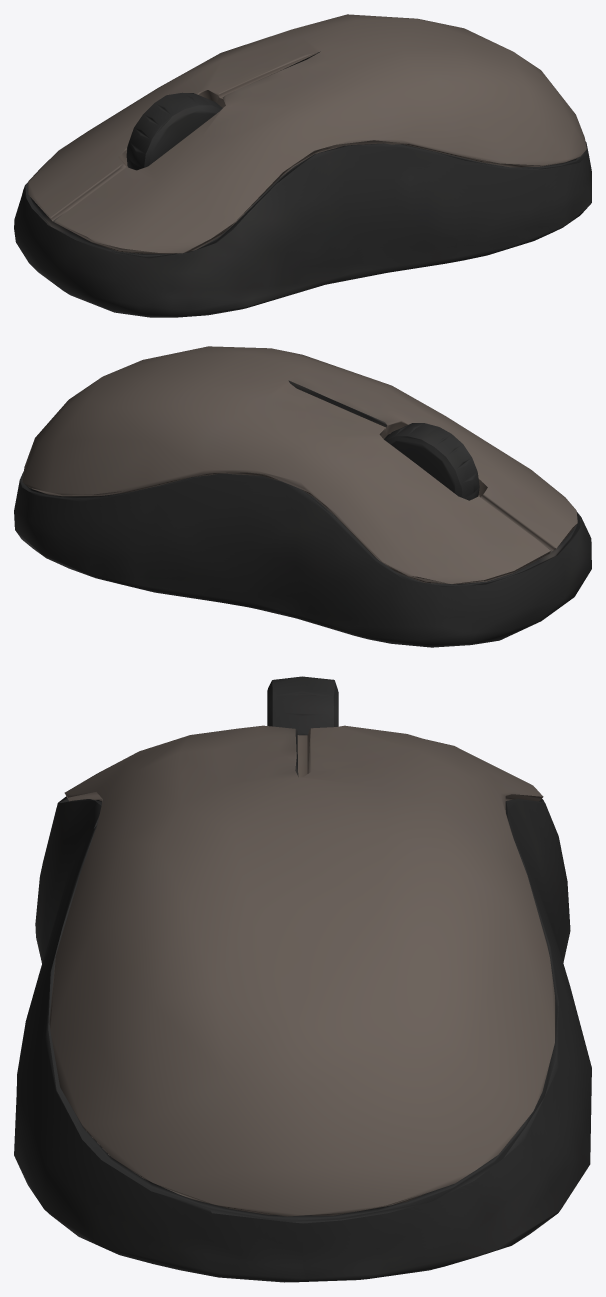
The model's file is SM_Computer_Mouse03.fbx.
The picture shows the model from 3 angles, top to bottom: view 1: azimuth 30°, elevation 25°; view 2: azimuth 150°, elevation 25°; view 3: azimuth 270°, elevation 25°; orthographic projection. The views are drawn at different scales.
Visible parts, largest first — view 1: SM_Computer_Mouse03_LOD0; view 2: SM_Computer_Mouse03_LOD0; view 3: SM_Computer_Mouse03_LOD0.
Boxes of the visible parts, bbox=[...] form: SM_Computer_Mouse03_LOD0: bbox=[14, 14, 591, 317]; SM_Computer_Mouse03_LOD0: bbox=[14, 346, 591, 647]; SM_Computer_Mouse03_LOD0: bbox=[14, 676, 591, 1282].
Size of the model in its own units: 12.79 by 6.93 by 3.94.
